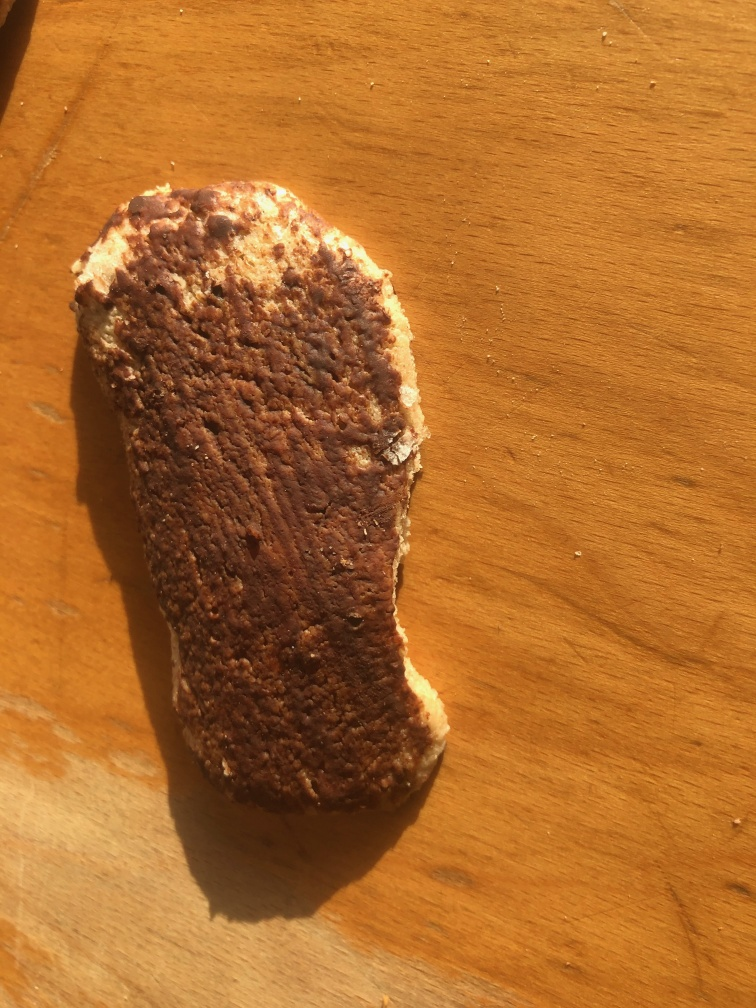weird #1: (63, 168, 463, 820)
